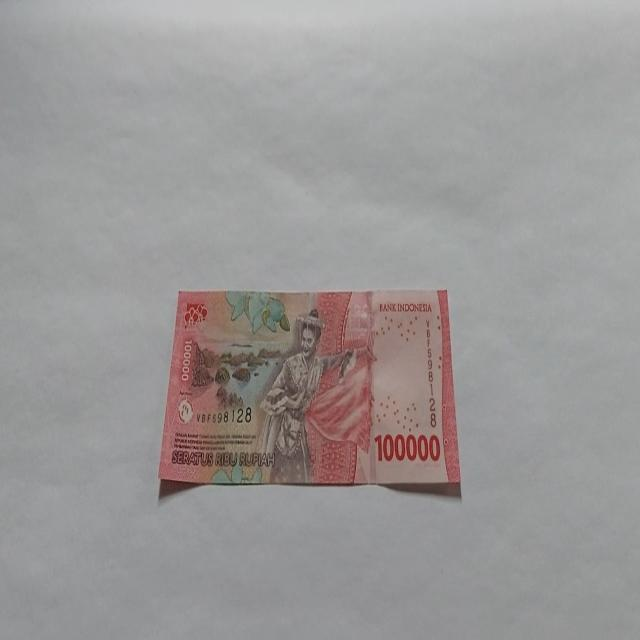seratus ribu rupiah: (156, 286, 462, 499), (254, 306, 355, 484)
